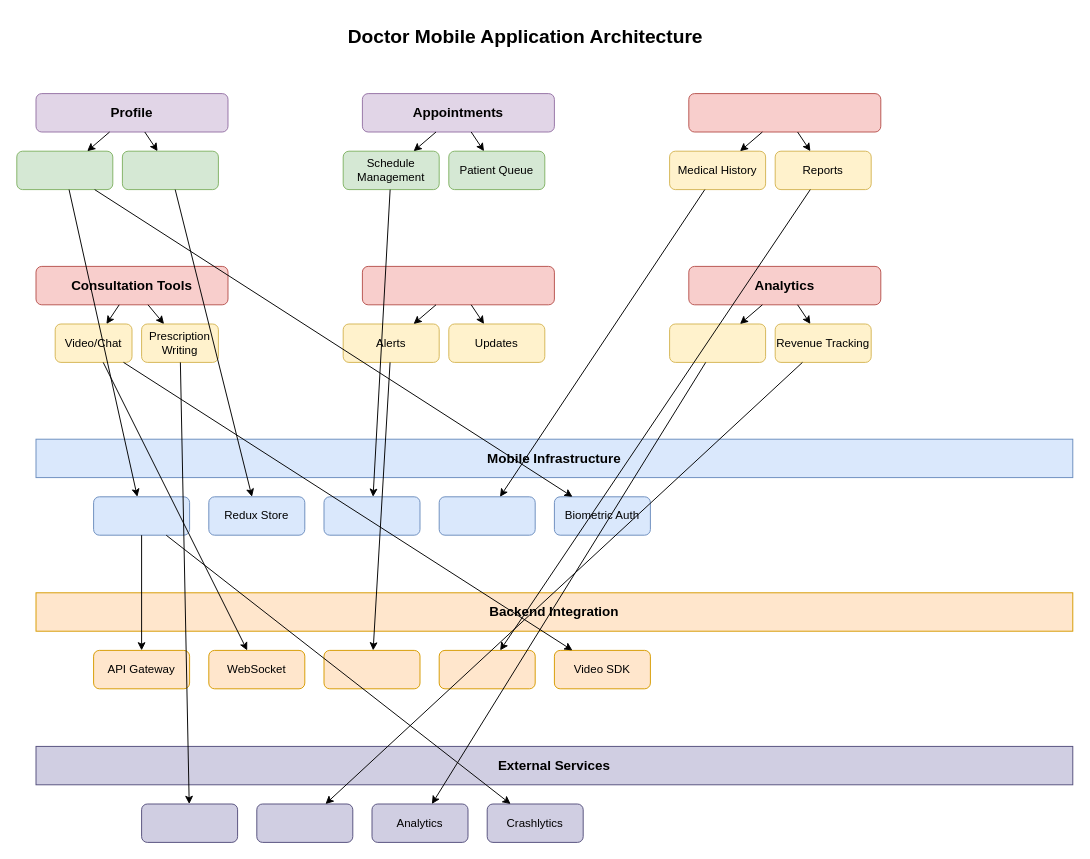
Image size: 1090x859. Some labels were removed from this diagram. Each missing label, with the centre of its shape:
Doctor Profile: the point at 64,170
File Upload: the point at 486,669
Local Storage: the point at 486,515
Medical References: the point at 189,822
Navigation: the point at 371,515
Notifications: the point at 457,285
Patient Records: the point at 784,112
Patient Statistics: the point at 717,342
Payment Gateway: the point at 304,822
Push Notifications: the point at 371,669
React Native: the point at 141,515
Specialization: the point at 169,170
